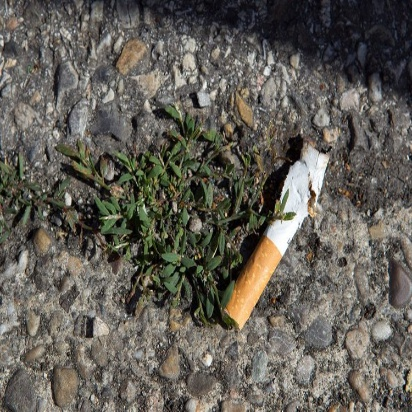cigarette: (215, 138, 333, 333)
